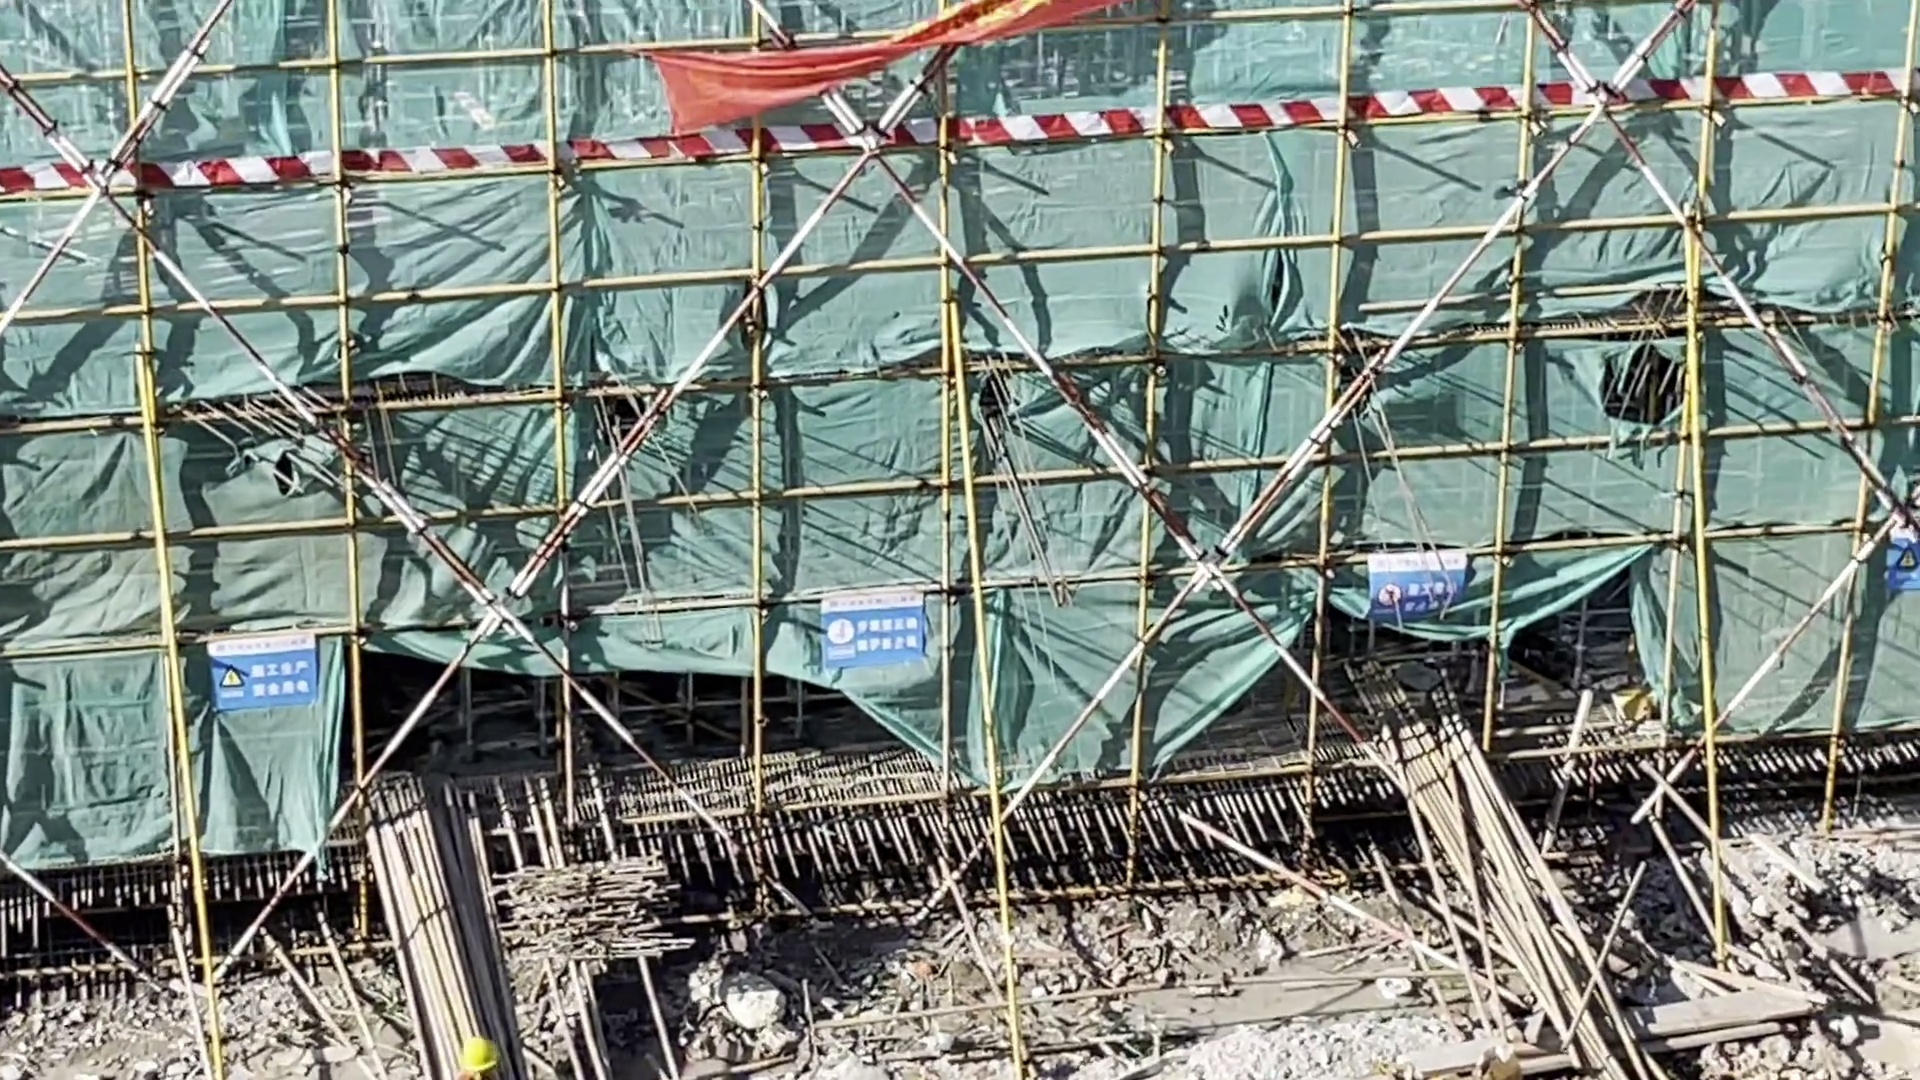helmet: (460, 1036, 504, 1076)
slogan: (658, 1, 1118, 137), (818, 587, 928, 674), (204, 632, 319, 712), (1370, 554, 1458, 617)
